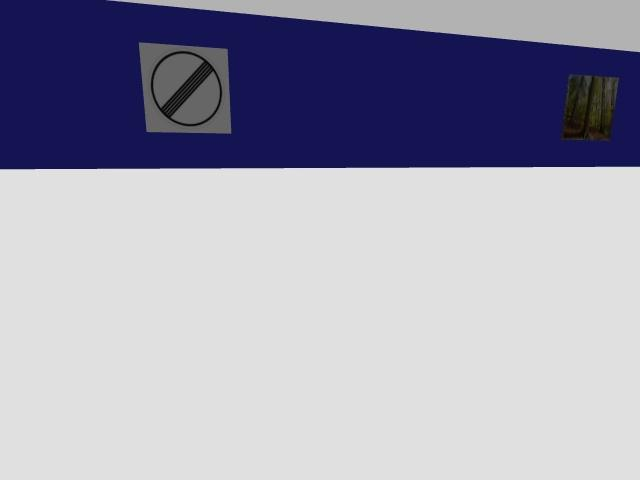fastsign: (139, 43, 230, 133)
